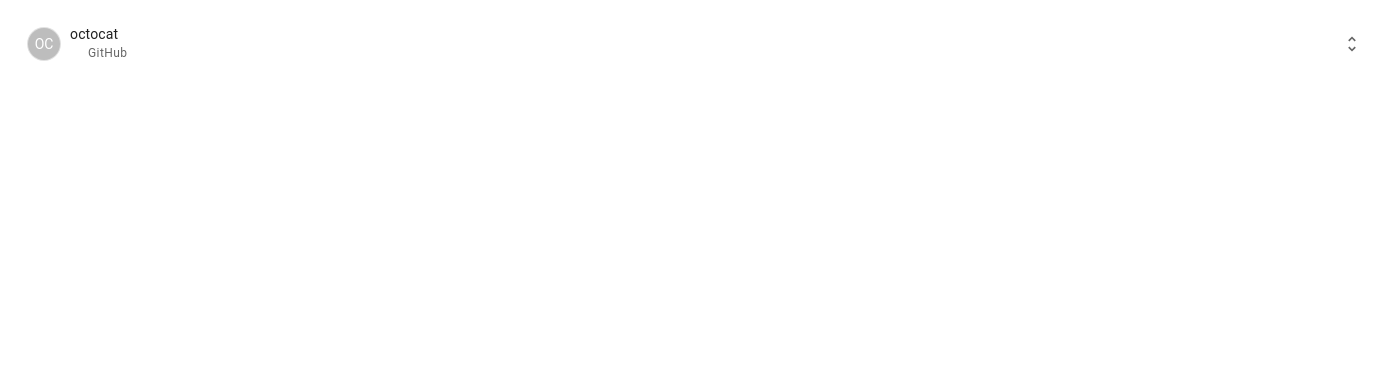
Account › a release reads swarmloop v0.4.0
Click the button "OC octocat GitHub": (44, 44) [12,12,1378,76]
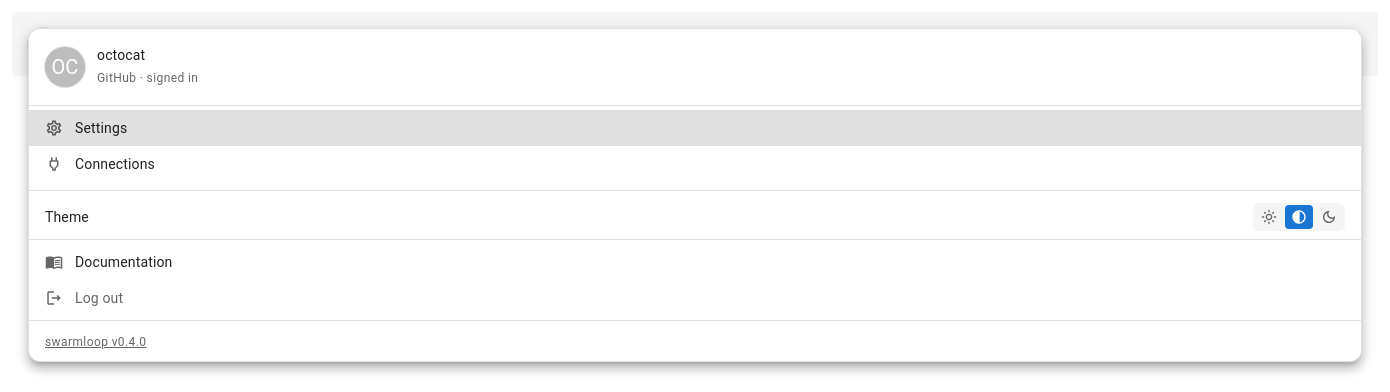
Expected: the link "swarmloop v0.4.0" is shown, [45,335,146,349]
